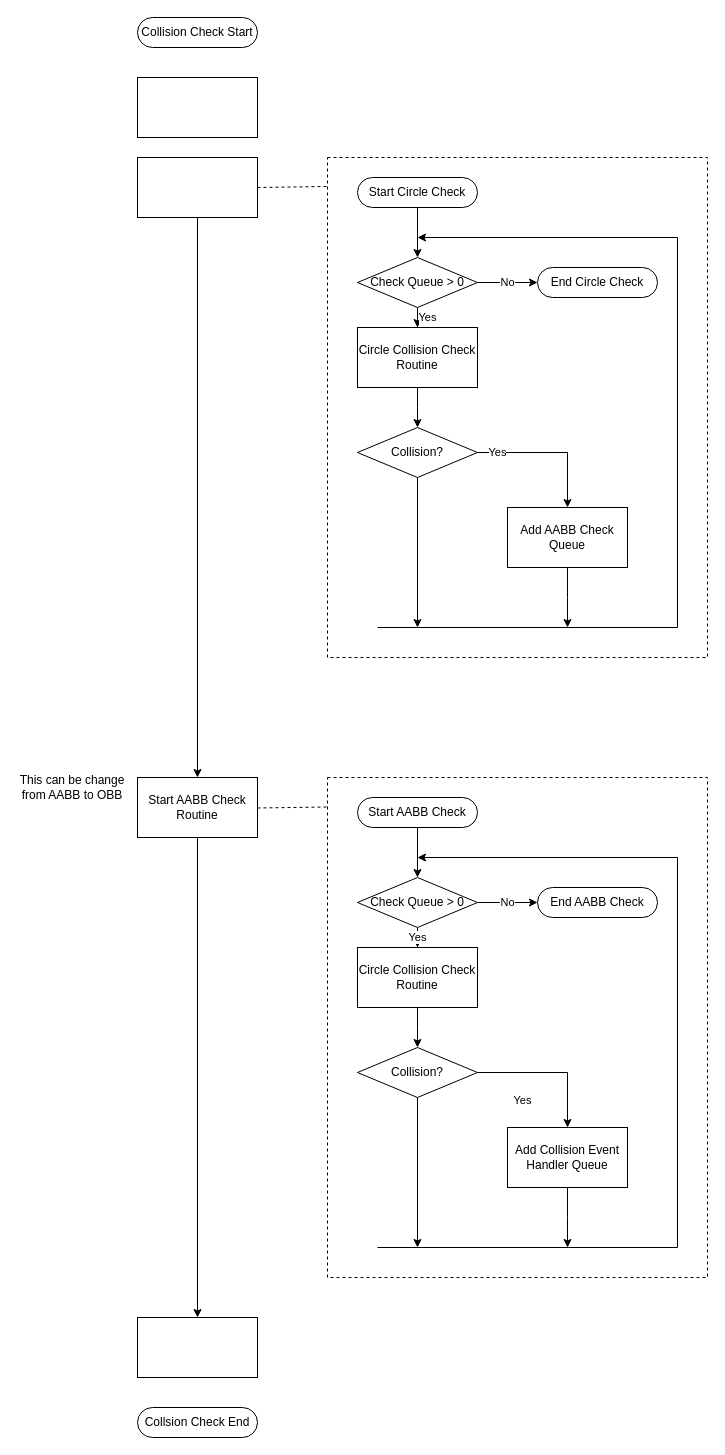
The diagram is 725 pixels wide and 1455 high, and some of its shapes have lost their labels. Here are the shapes that lost their labels. From the top down, the centre of each, then its label:
pixel 197 107: Add All objects to Circle Check Queue
pixel 197 187: Start Circle Check Routine
pixel 197 1347: Call All Functions in Event Handler Queue
